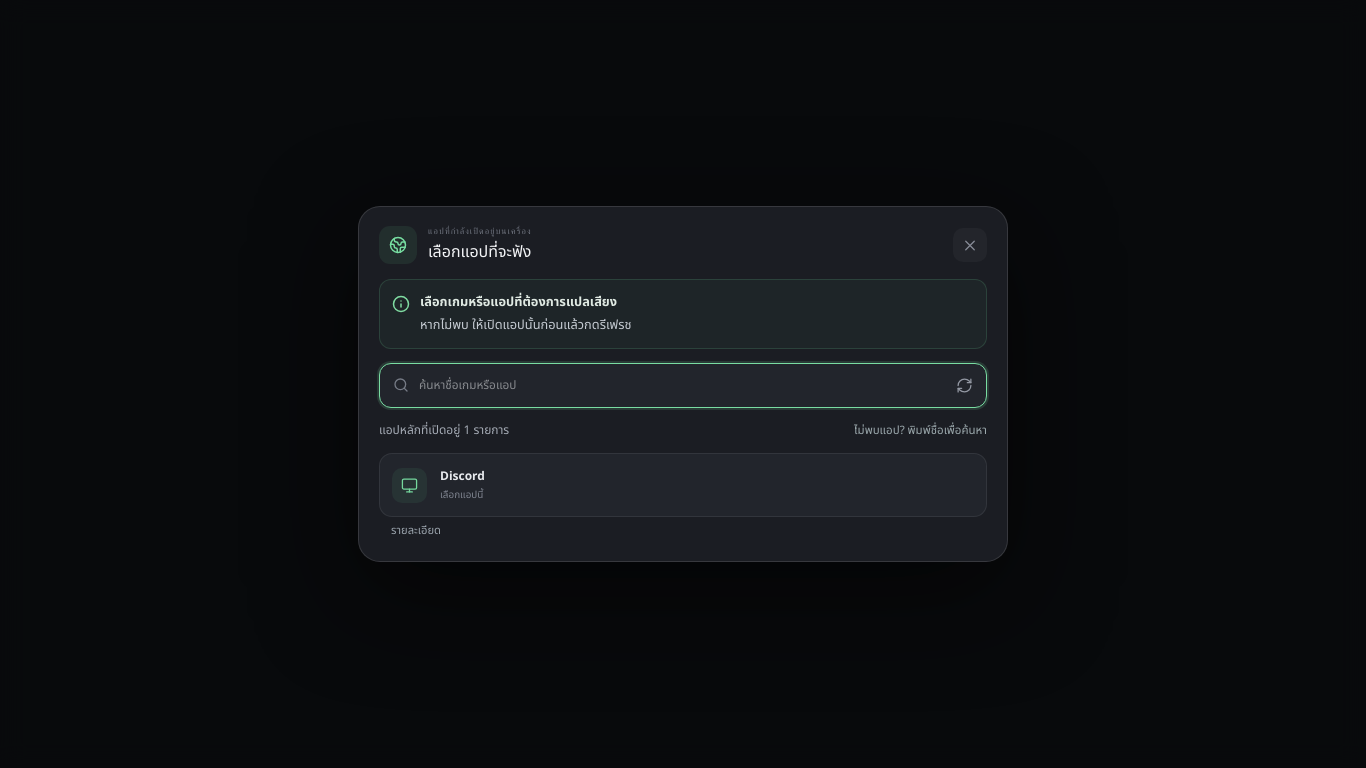
Test: grouped running app picker › keeps technical process details behind one disclosure
The width and height of the screenshot is (1366, 768).
Click the button with aria-label "รายละเอียด Discord" at [416, 532], box [391, 523, 441, 540]
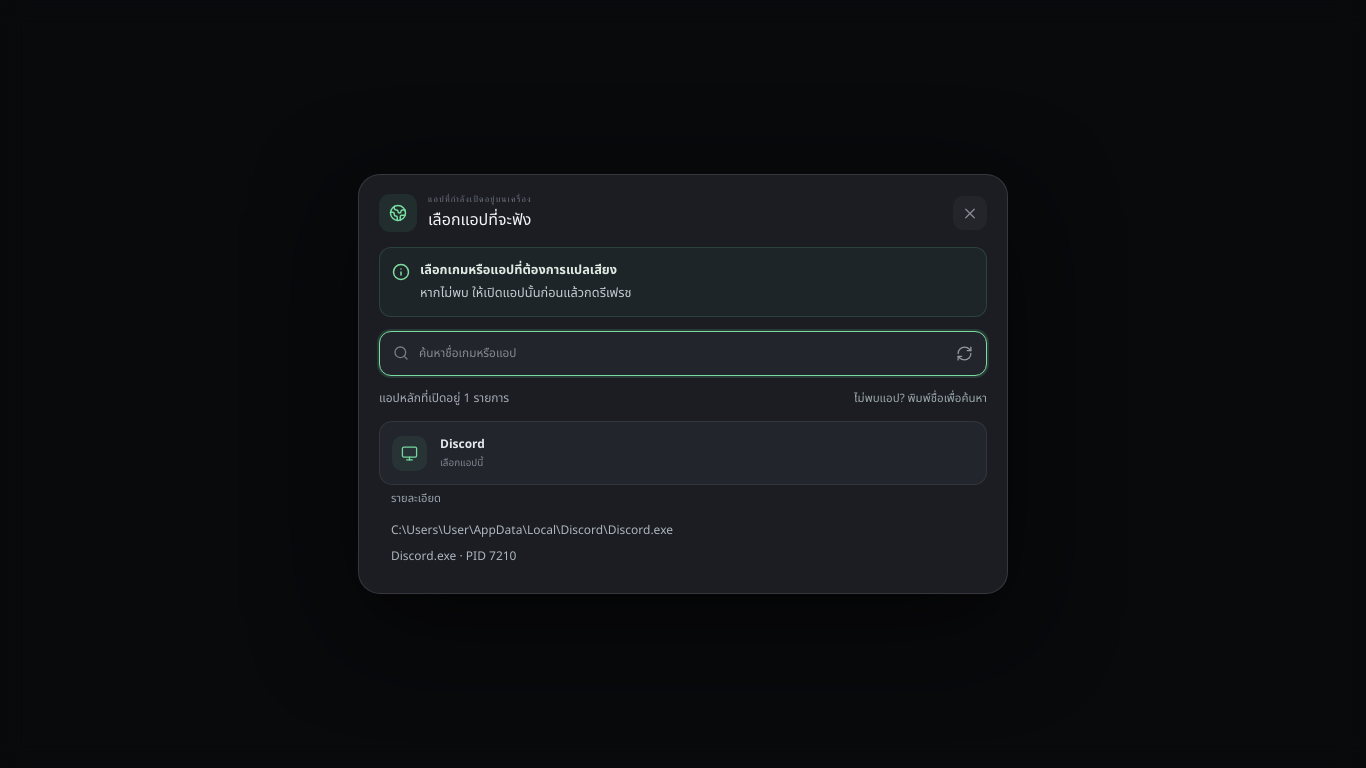
Now the button with aria-label "รายละเอียด Discord" is expanded, box [391, 491, 441, 508]
Now the text "Discord.exe · PID 7210" is shown, box [391, 547, 516, 565]
Now the text "C:\\Users\\User\\AppData\\Local\\Discord\\Discord.exe" is shown, box [391, 521, 673, 539]
